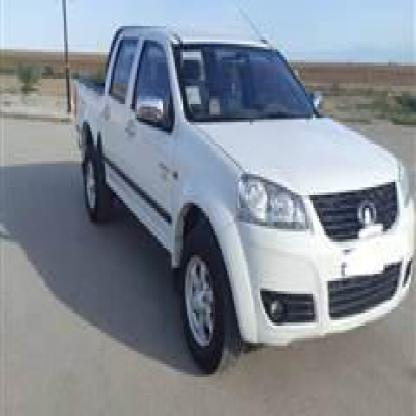car: (78, 29, 414, 372)
